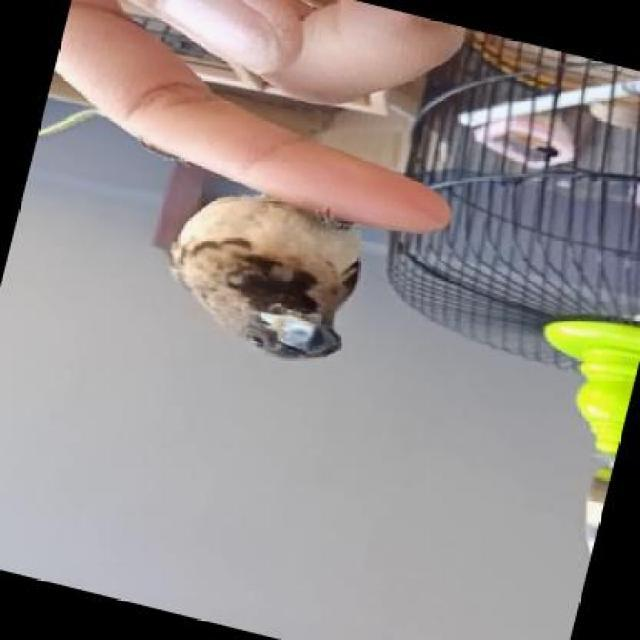Bird: (166, 155, 392, 415)
